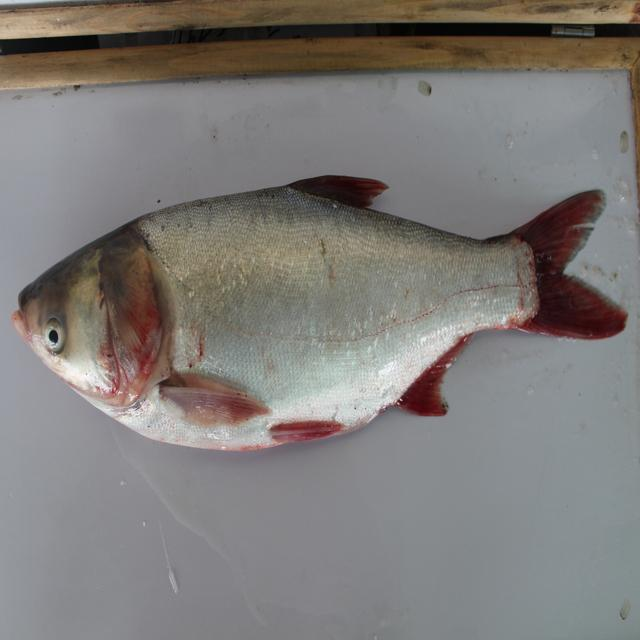SilverCarp: (12, 176, 622, 442)
